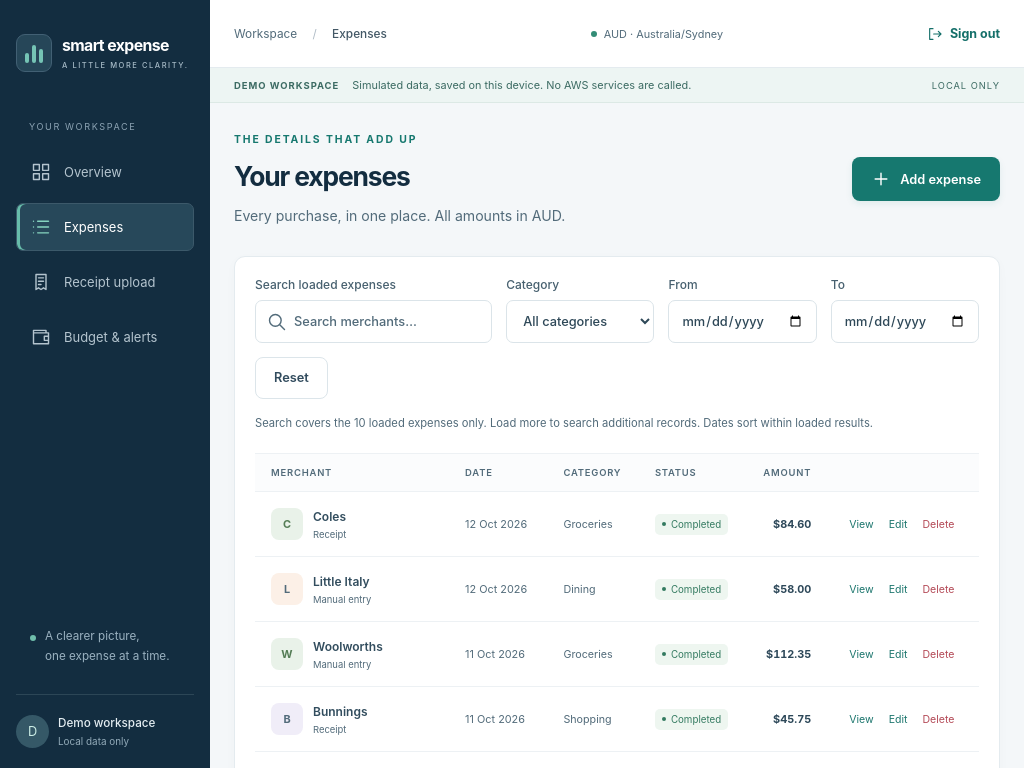
it: expense interactions › creates an expense through a labelled modal
This screenshot has width=1024, height=768.
Expected: the button with aria-label "View Coles" is shown, [843,509,880,540]
Click the button "Add expense" at (926, 179), box [852,157,1000,201]
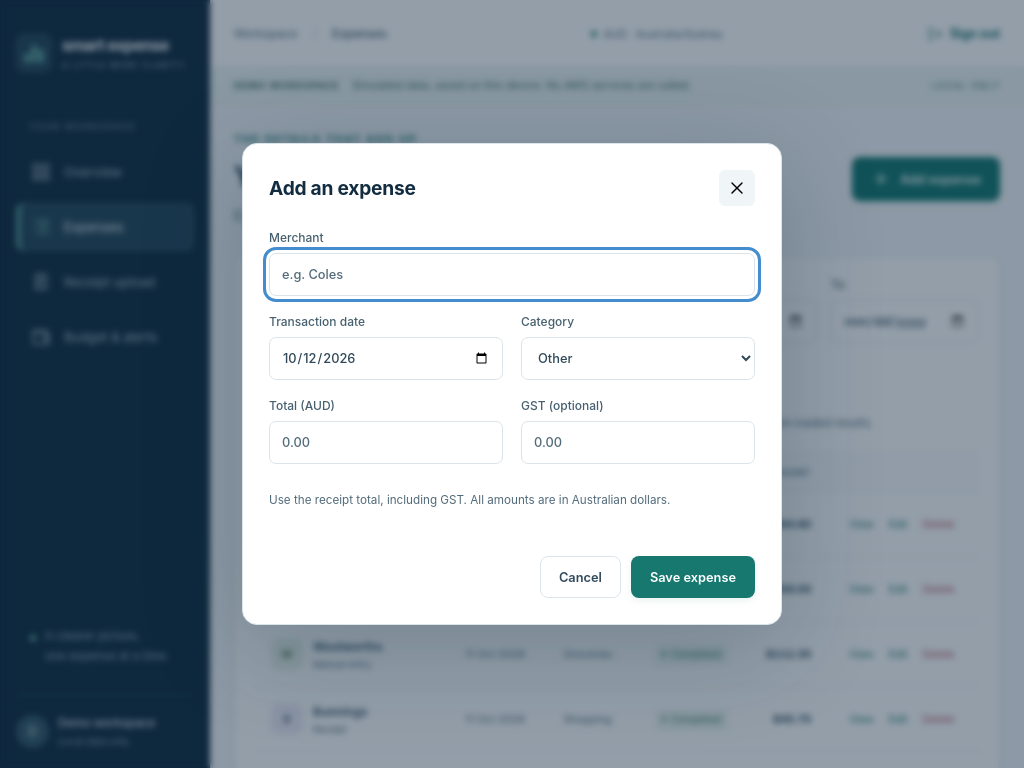
Result: the dialog "Add an expense" is shown at [242,143,782,625]
Type "Test merchant" into the field labelled "Merchant" at (512, 274), box [269,253,755,296]
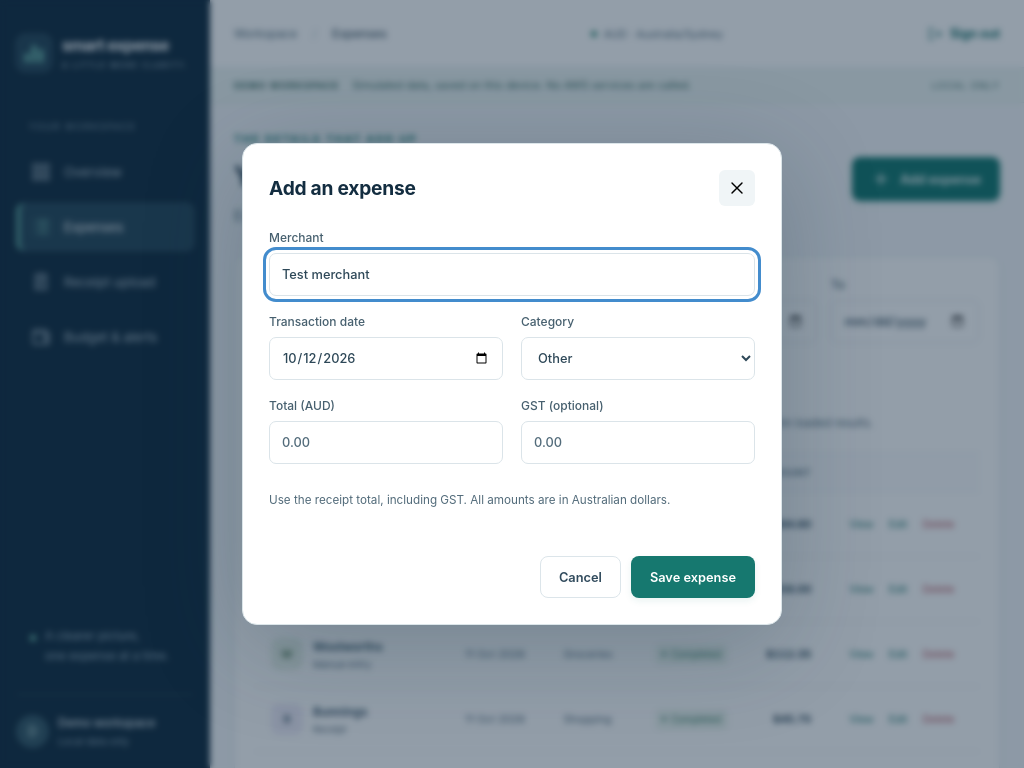
Type "12.50" into the field labelled "Total (AUD)" at (386, 442), box [269,421,503,464]
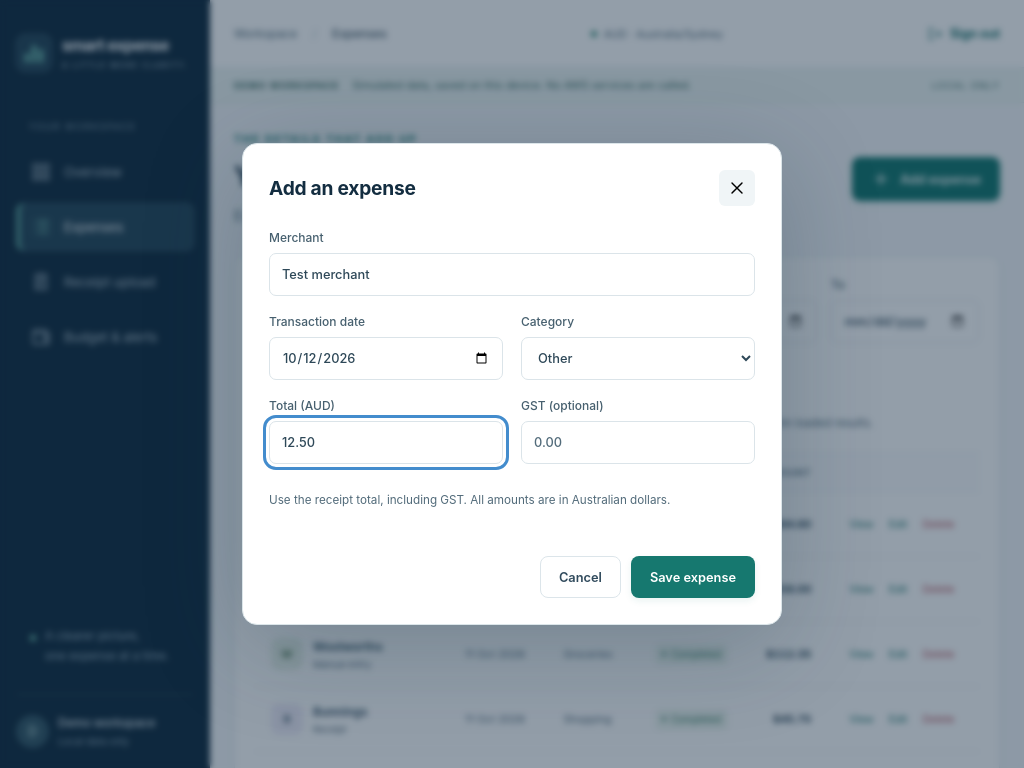
Click the button "Save expense" at (693, 577), box [631,556,755,598]
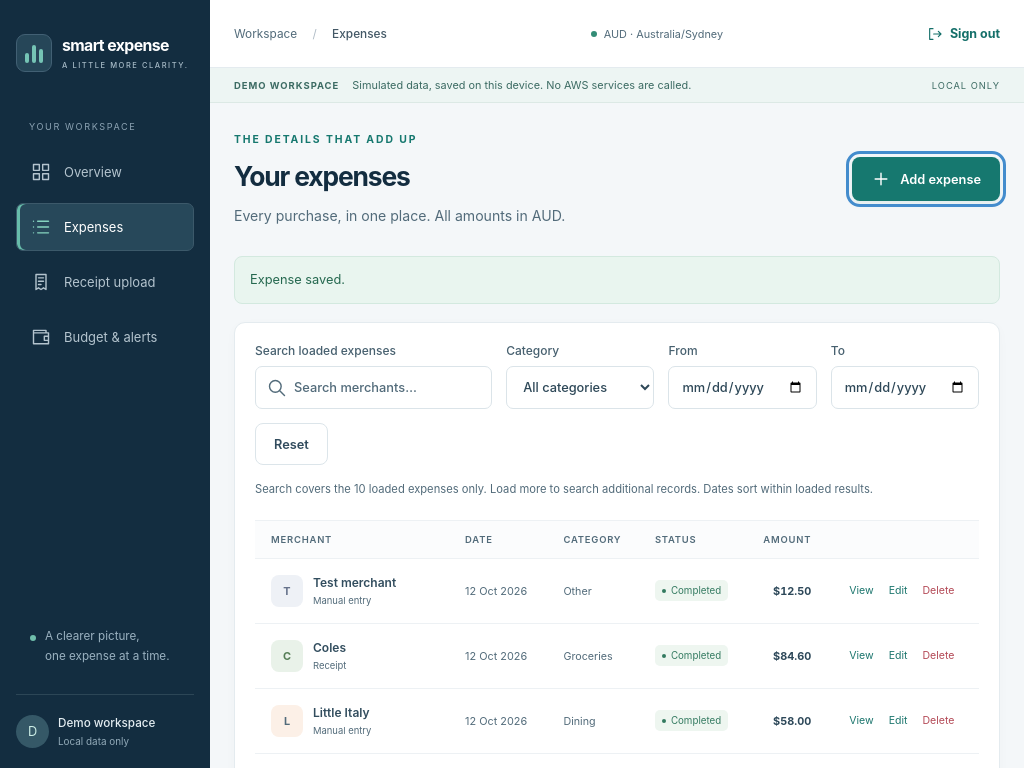
Result: the button with aria-label "Edit Test merchant" is shown at [883,575,913,606]
Result: the text "Expense saved." is shown at [234,256,1000,304]
